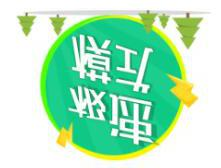ImgView: (1, 1, 220, 167)
